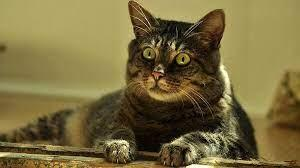animals: (0, 2, 262, 161)
